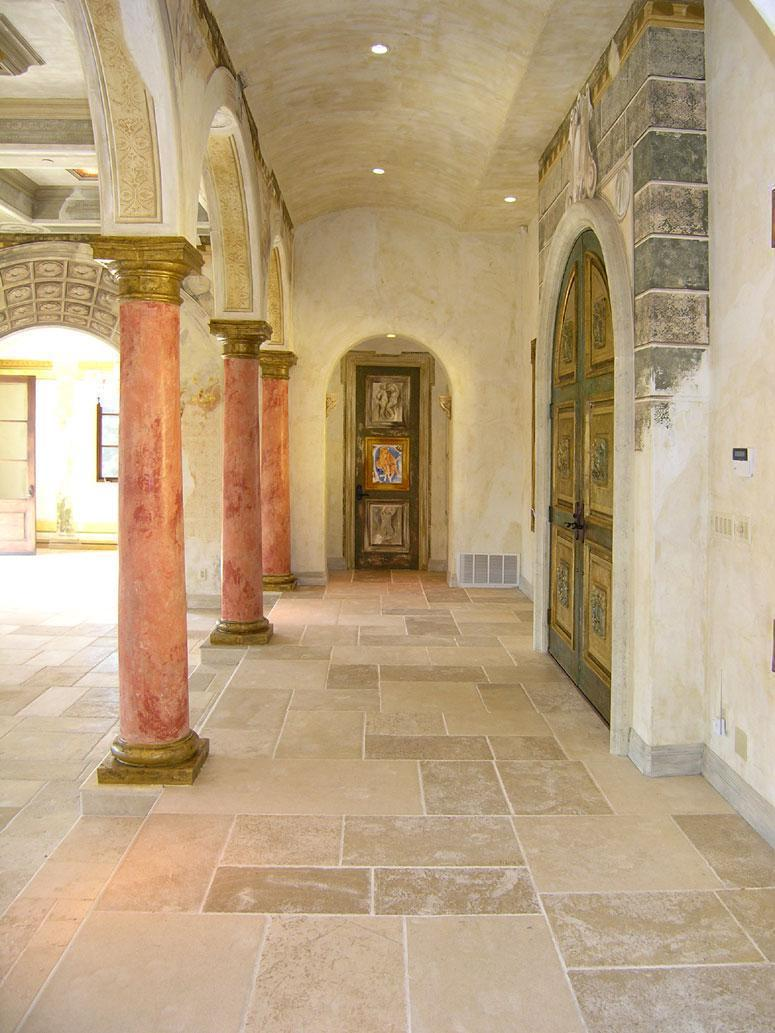Puerta: (533, 230, 636, 749), (352, 350, 425, 569)
